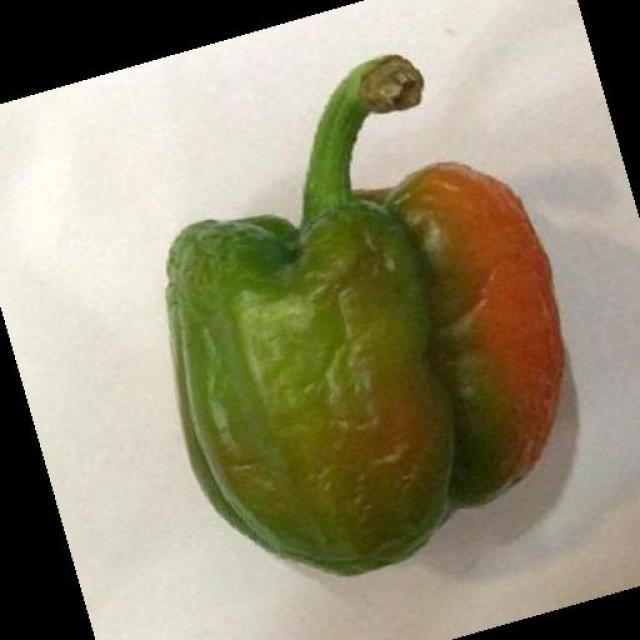Stale_Capsicum: (132, 76, 640, 594)
